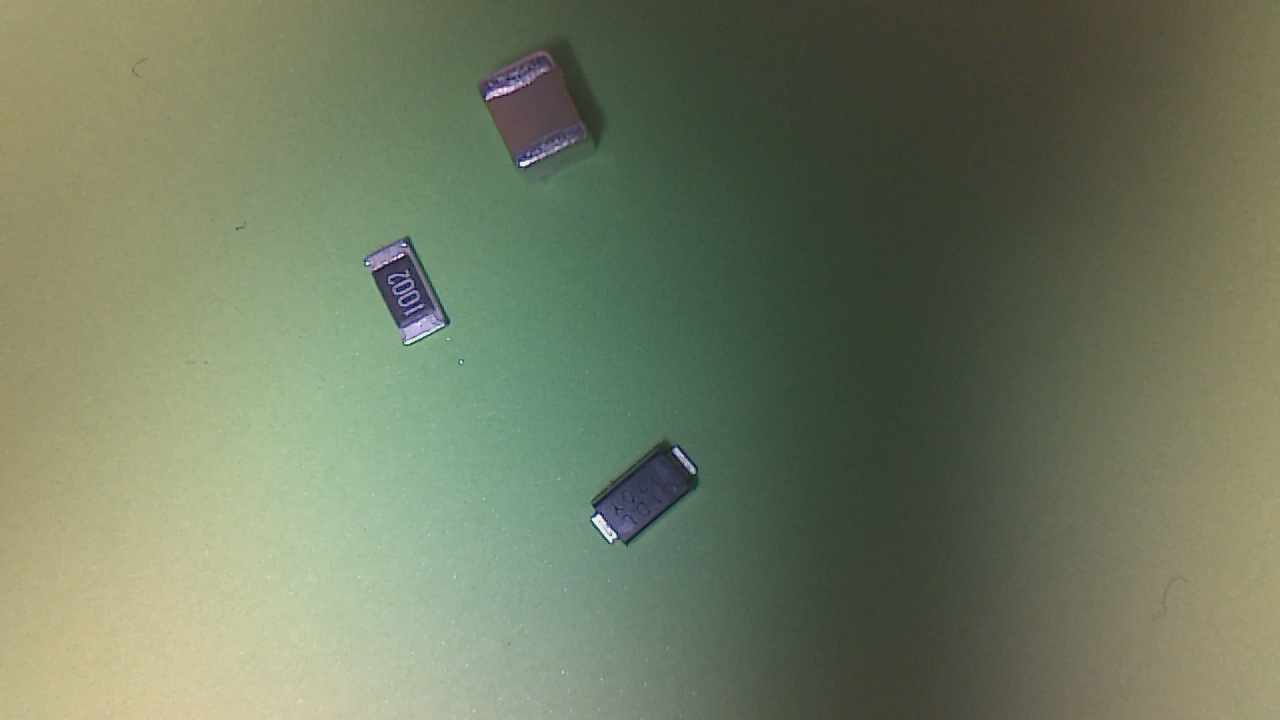Condensator: (478, 56, 593, 174)
Diode: (589, 446, 713, 550)
Resistor: (367, 241, 460, 349)
